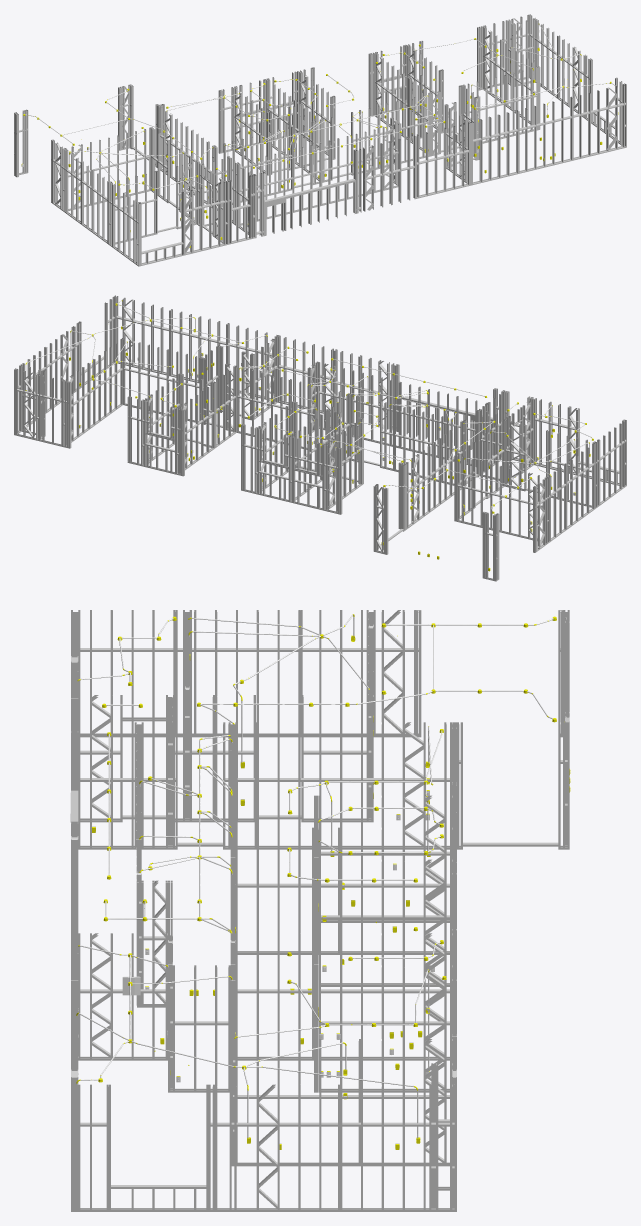
File: pavimento-superior.glb
The picture shows the model from 3 angles, top to bottom: view 1: azimuth 30°, elevation 25°; view 2: azimuth 150°, elevation 25°; view 3: azimuth 270°, elevation 25°; orthographic projection. The views are drawn at different scales.
Visible parts, largest first — view 1: no part large enough to name; view 2: no part large enough to name; view 3: DirectShape Modelos genéricos <299557 Componente#1718<.
Part boxes in pixels (box(x1,y1,x2,y2)): DirectShape Modelos genéricos <299557 Componente#1718<: box(71, 1085, 78, 1211).
Size of the model in its own units: 21.63 by 2.66 by 9.58.
